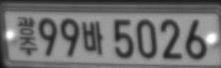0: (135, 18, 157, 59)
2: (159, 17, 182, 59)
5: (112, 18, 134, 59)
6: (184, 18, 207, 60)
9: (60, 17, 80, 57), (38, 16, 57, 56)
광주_V: (16, 16, 38, 56)
바: (81, 20, 103, 55)
